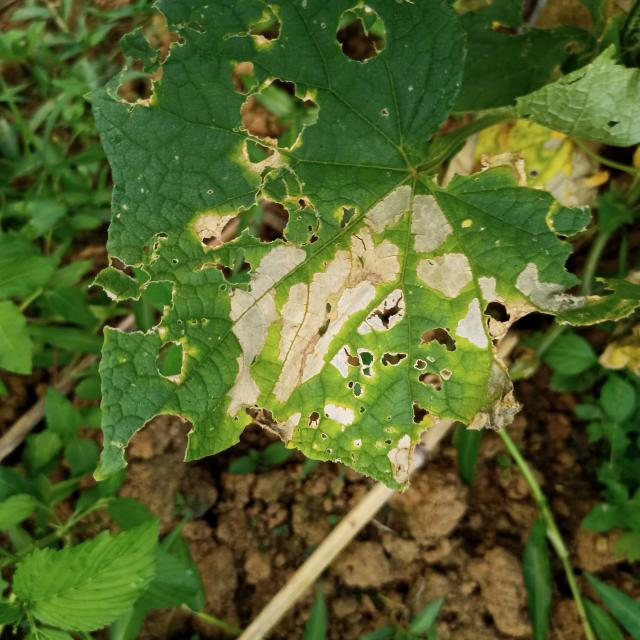disease_cucumber: (127, 61, 522, 473)
